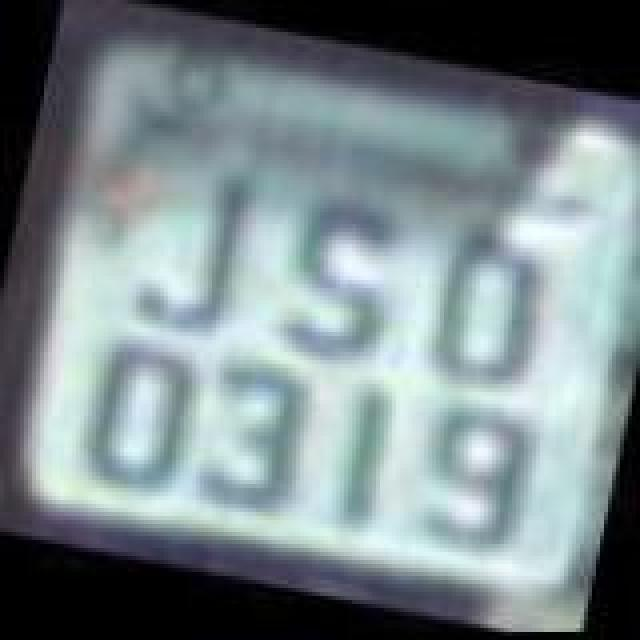1: (306, 370, 410, 542)
3: (186, 352, 322, 528)
9: (398, 372, 542, 564)
J: (118, 158, 270, 346)
O: (418, 220, 558, 396), (80, 334, 204, 502)
S: (262, 192, 410, 376)
